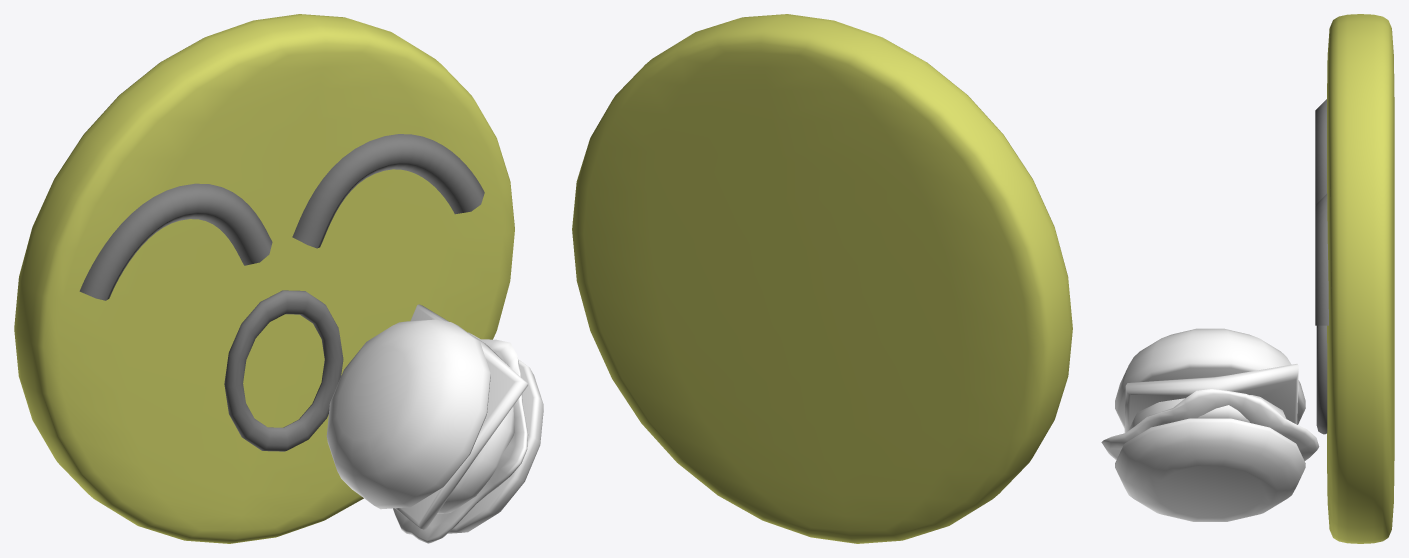
3 renders of one model, left to right at view 1: azimuth 30°, elevation 25°; view 2: azimuth 150°, elevation 25°; view 3: azimuth 270°, elevation 25°, orthographic. The views are drawn at different scales.
Parts seen in each view (by area): view 1: face, MSH_Hamburguesa_P_C_L_Q, eyes; view 2: face; view 3: face, MSH_Hamburguesa_P_C_L_Q, eyes.
Part boxes in pixels (bbox=[...]): face: bbox=[14, 14, 514, 543]; MSH_Hamburguesa_P_C_L_Q: bbox=[326, 304, 543, 543]; eyes: bbox=[79, 134, 484, 451]; face: bbox=[572, 14, 1072, 543]; face: bbox=[1327, 14, 1394, 543]; MSH_Hamburguesa_P_C_L_Q: bbox=[1101, 328, 1319, 521]; eyes: bbox=[1315, 99, 1328, 434].
Bounding box in the file's own units: 41.08 × 22.7 × 41.08.
